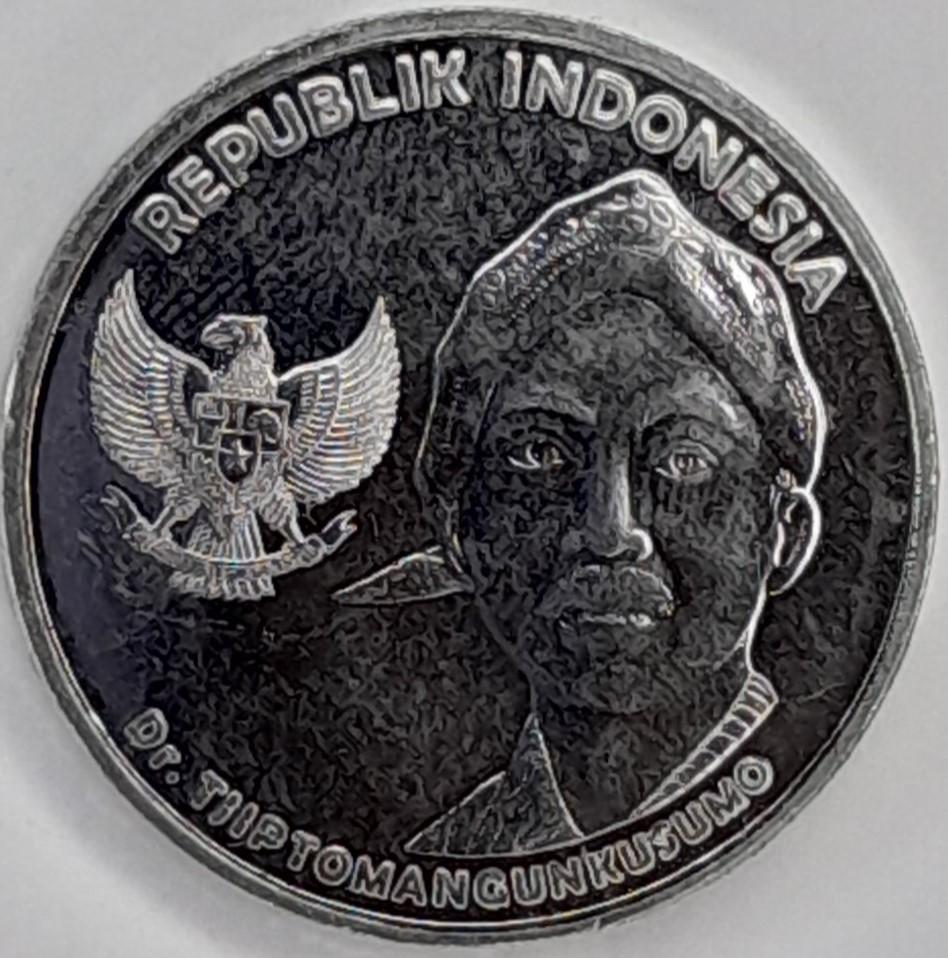coin_200_e2016: (0, 17, 948, 958)
